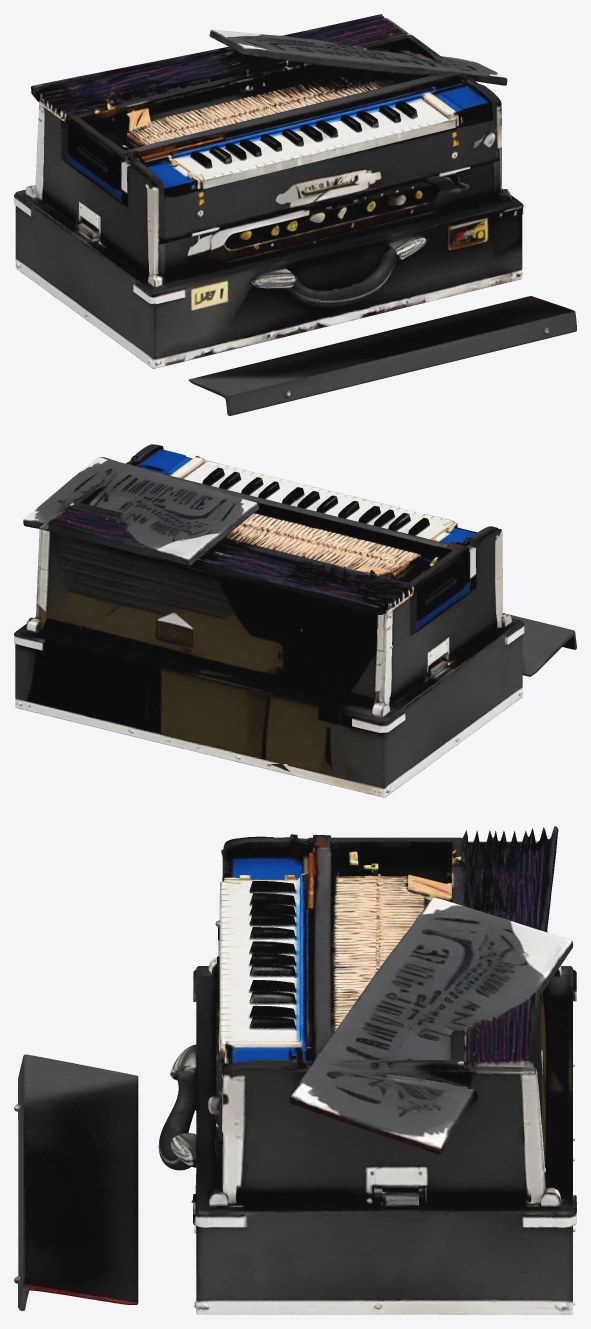
Rendered from compressed_1764156873943_wooden harmonium.glb.
The picture shows the model from 3 angles, top to bottom: view 1: azimuth 30°, elevation 25°; view 2: azimuth 150°, elevation 25°; view 3: azimuth 270°, elevation 25°; orthographic projection. The views are drawn at different scales.
Parts seen in each view (by area): view 1: model; view 2: model; view 3: model.
Boxes of the visible parts, x1,y1,x2,y2 form: model: (14,14,576,415); model: (14,444,576,797); model: (14,826,576,1314).
Size of the model in its own units: 1.85 by 0.9274 by 1.61.
1 material, 1 textured.
